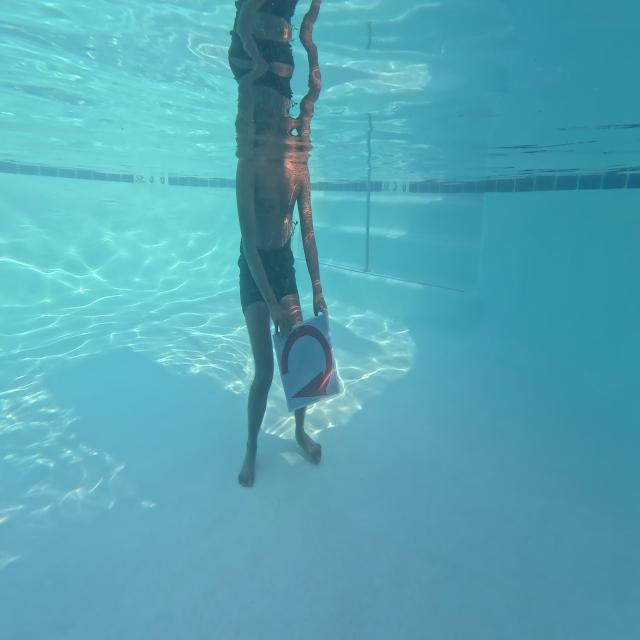red_side: (270, 324, 347, 411)
